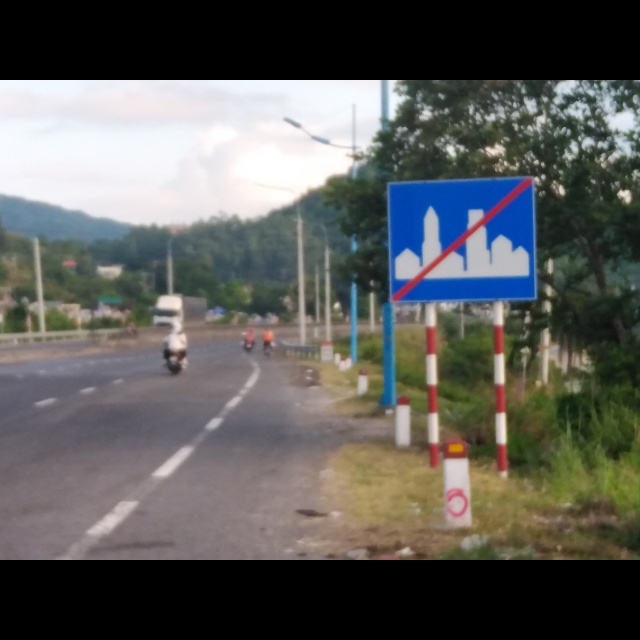Hết khu đông dân cư: (387, 176, 540, 302)
